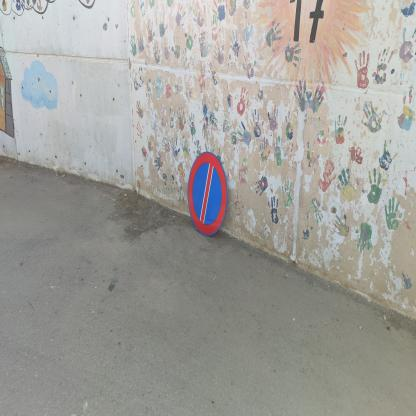No Waiting: (189, 153, 229, 238)
